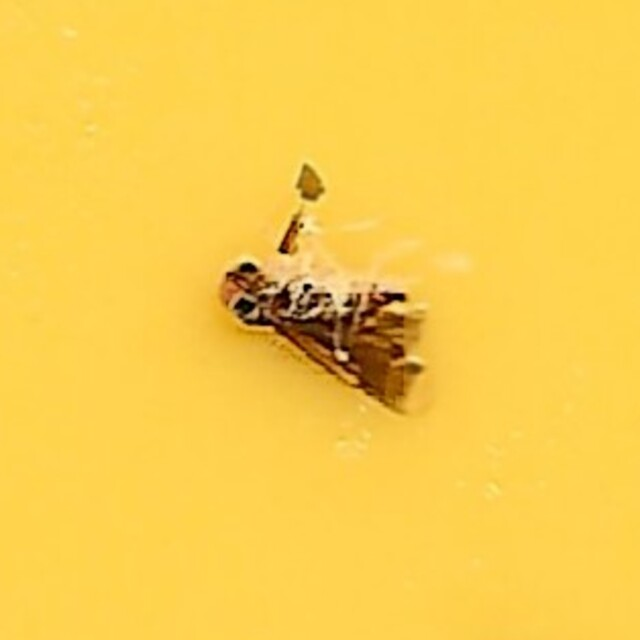Hemiptera: (204, 233, 436, 407)
